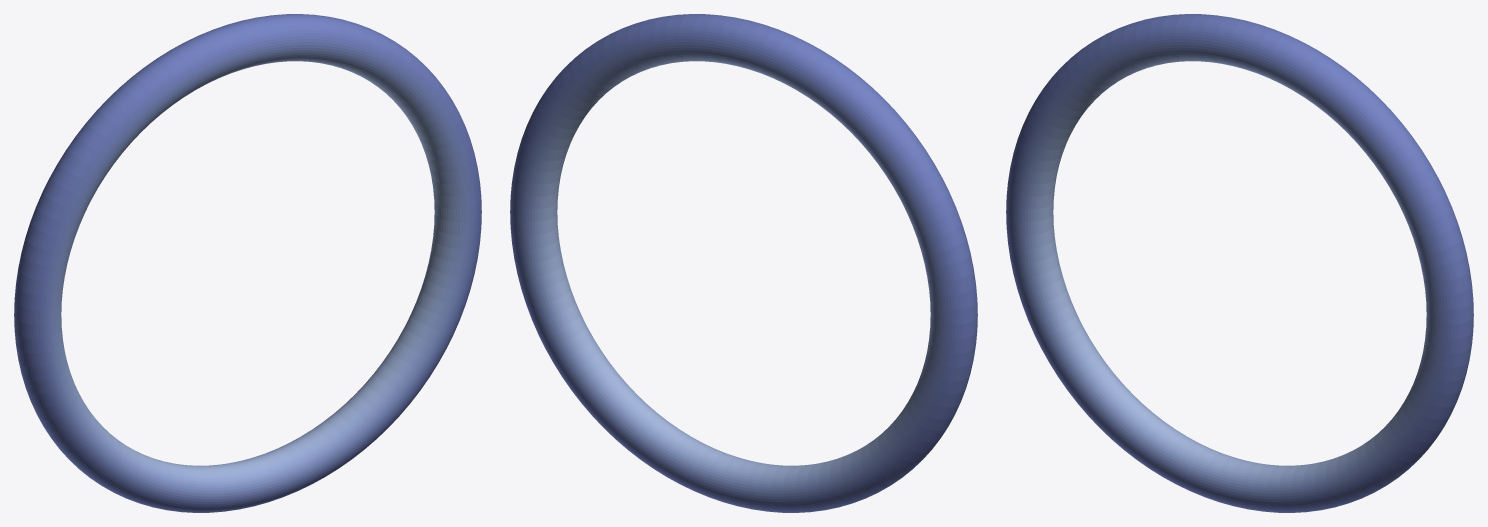
3 renders of one model, left to right at view 1: azimuth 30°, elevation 25°; view 2: azimuth 150°, elevation 25°; view 3: azimuth 330°, elevation 25°, orthographic.
Visible parts, largest first — view 1: world; view 2: world; view 3: world.
Boxes of the visible parts, box(x1,y1,x2,y2) form: world: box(14, 14, 481, 512); world: box(510, 14, 977, 512); world: box(1006, 14, 1473, 512).
Bounding box in the file's own units: 28.53 × 28.53 × 2.53.
